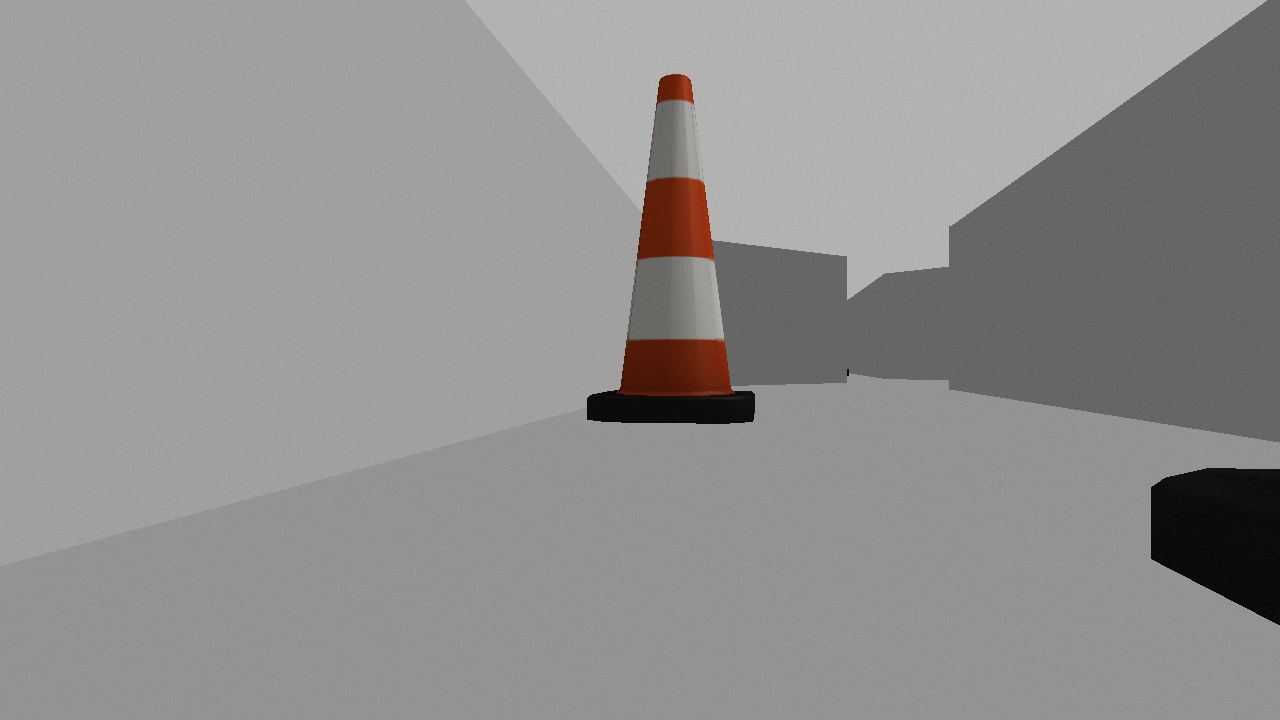barricade: (563, 64, 774, 433)
